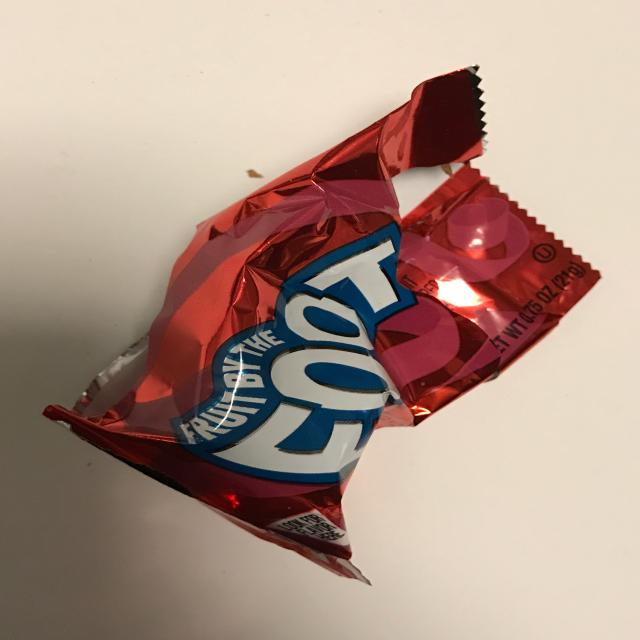trash: (42, 64, 602, 586)
